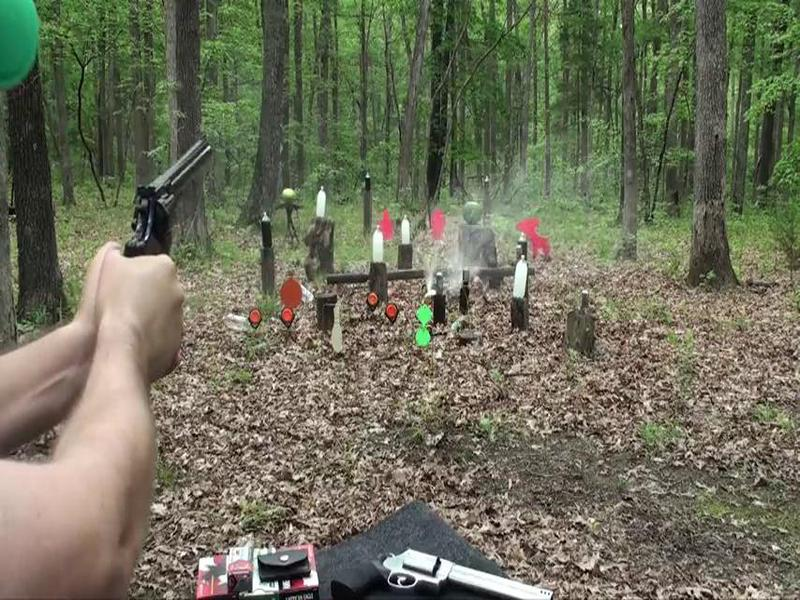Revolver: (99, 124, 216, 289)
